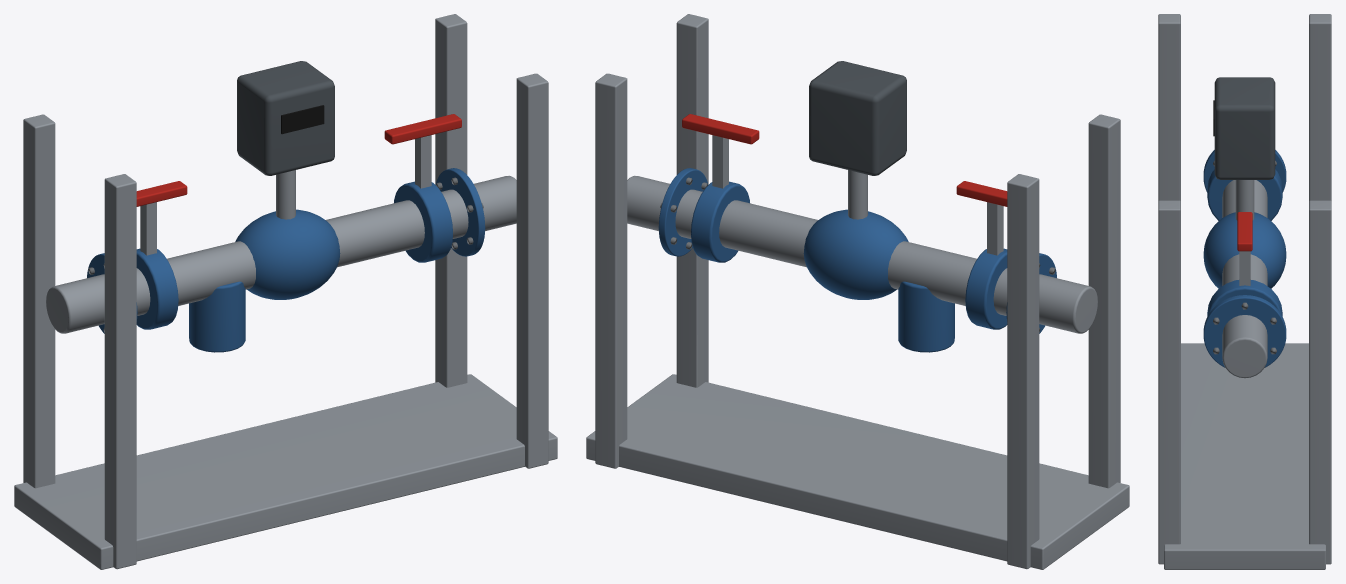
The model's file is bypass.glb.
3 renders of one model, left to right at view 1: azimuth 30°, elevation 25°; view 2: azimuth 150°, elevation 25°; view 3: azimuth 270°, elevation 25°, orthographic. The views are drawn at different scales.
Visible parts, largest first — view 1: frame, valves, pipe, actuator; view 2: frame, valves, pipe, actuator; view 3: frame, pipe, valves, actuator.
Boxes of the visible parts, x1,y1,x2,y2 form: frame: (14,14,557,569); valves: (136,114,461,352); pipe: (46,168,516,333); actuator: (237,61,334,175); frame: (586,14,1129,569); valves: (682,114,1007,352); pipe: (627,168,1097,333); actuator: (809,61,906,175); frame: (1158,14,1331,569); pipe: (1203,150,1286,378); valves: (1203,169,1286,316); actuator: (1213,77,1275,179).
Size of the model in its own units: 1.3 by 1.1 by 0.46.
